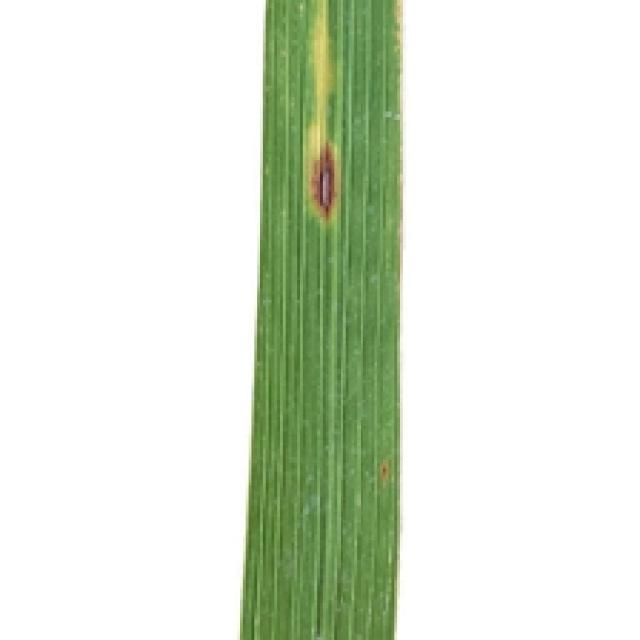Rice___Rice_Blast: (238, 0, 403, 637)
